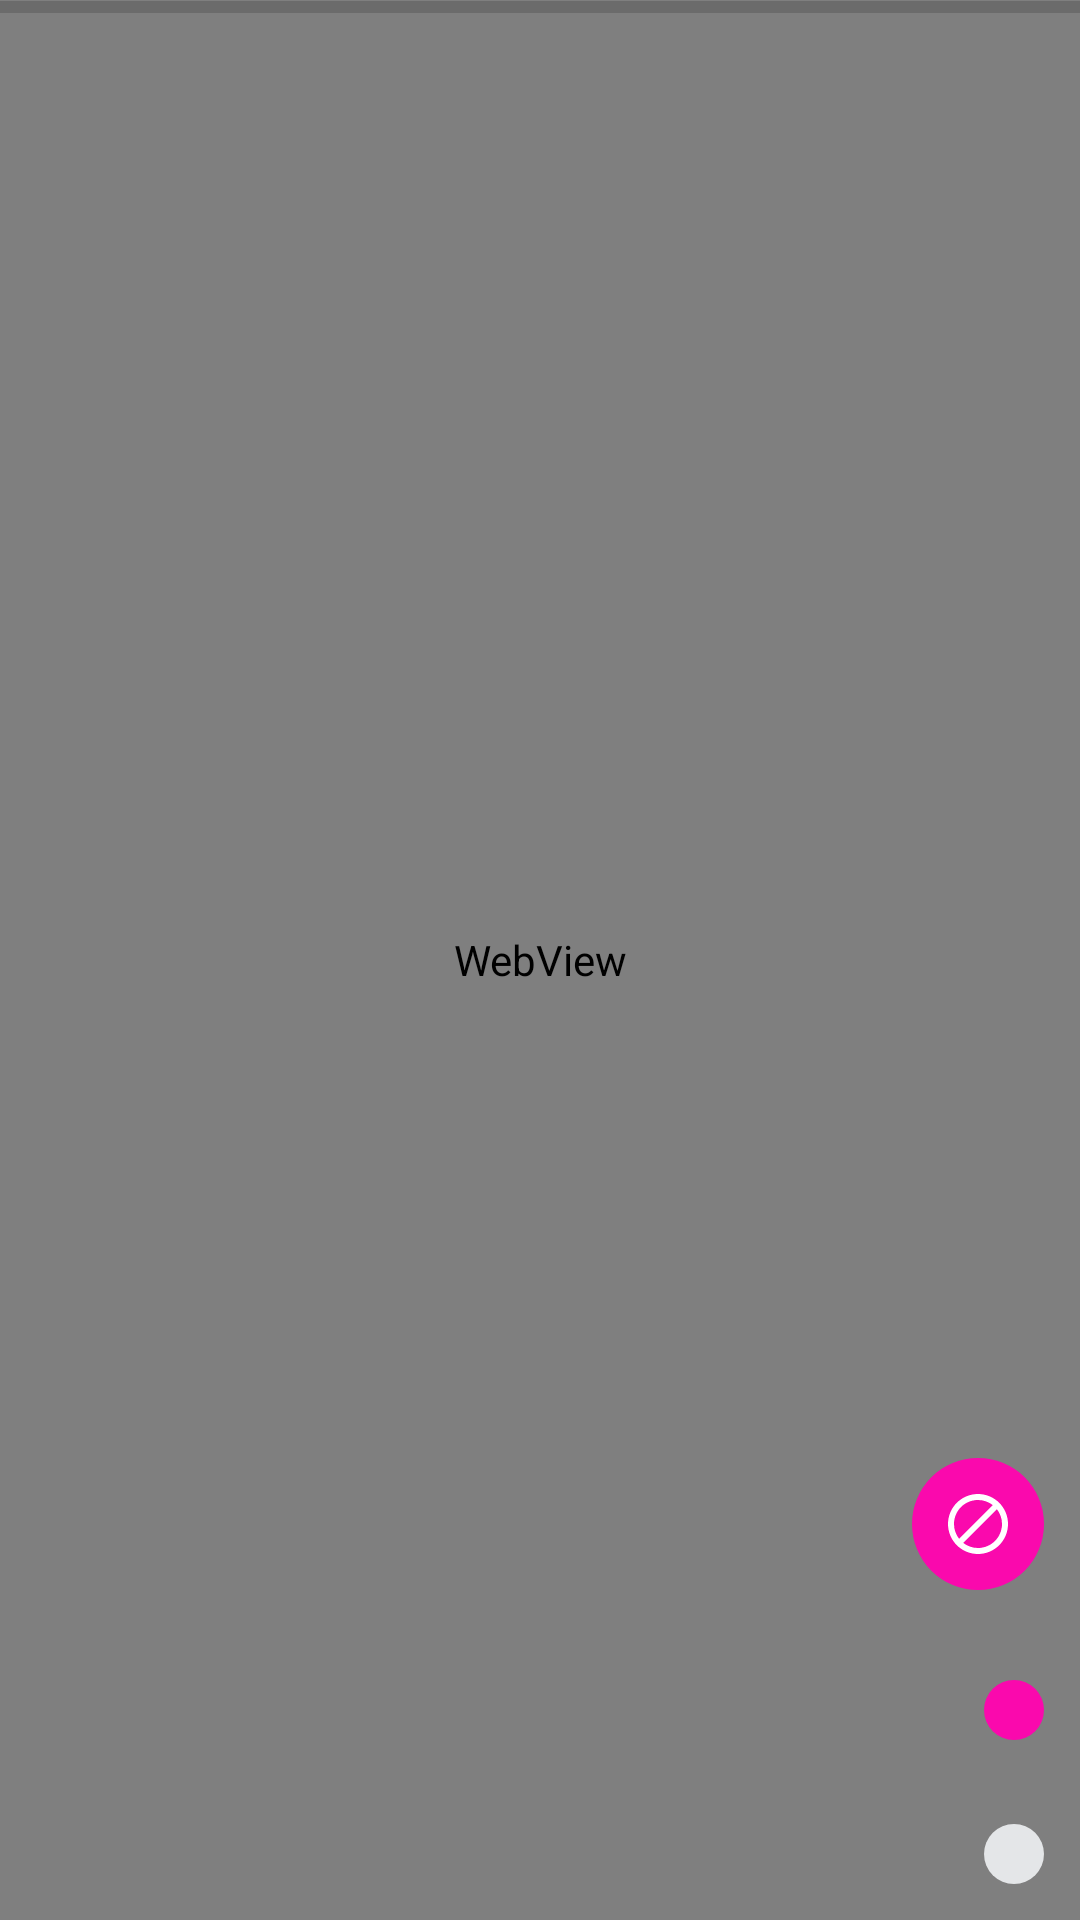

Icons on this 1080 x 1920 Android screen, each with the point to tap as (x,y):
block: (978,1524)
